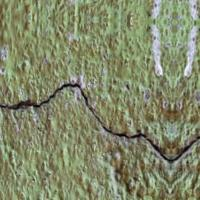crack: (0, 75, 199, 180)
